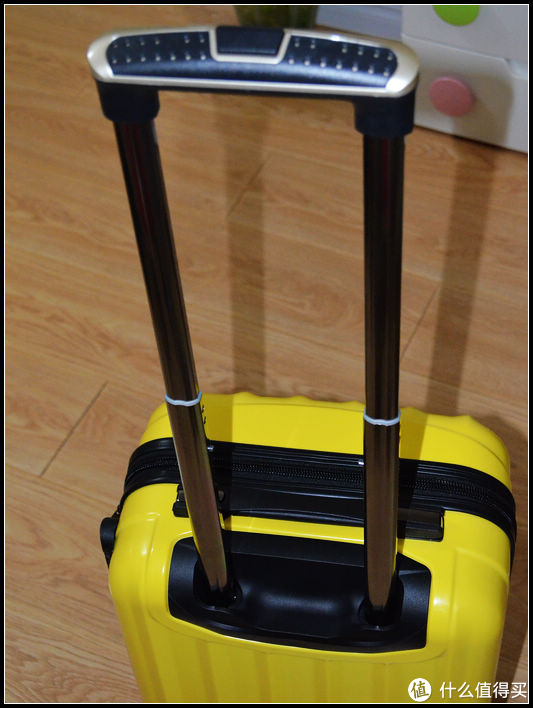box: (107, 391, 512, 708)
